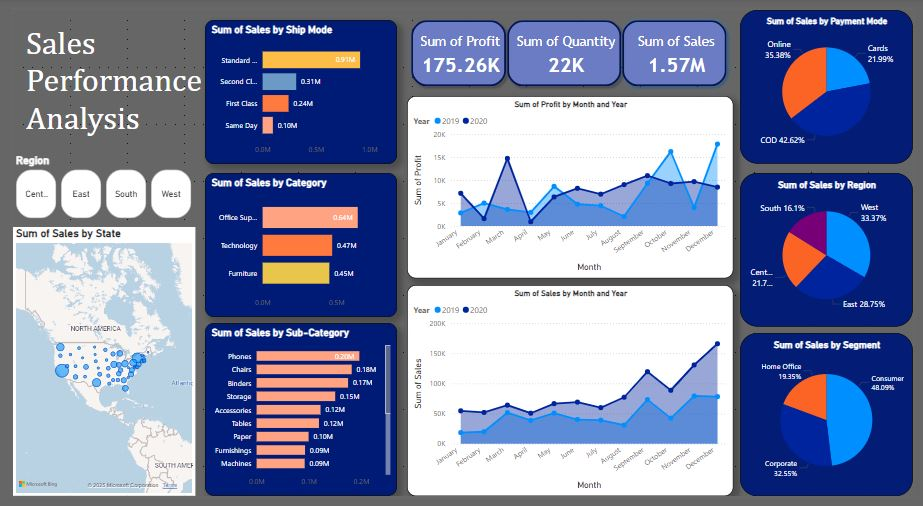

The page's visual inventory and layout, read from the dashboard file:
{"tool":"powerbi","page":{"name":"Page 1","canvas":[1500,810],"ordinal":0},"visuals":[{"type":"textbox","box":[16,16,304,256],"z":0},{"type":"pieChart","fields":{"Category":["Sheet1.Region"],"Y":["Sum(Sheet1.Sales)"]},"box":[1212,272,288,256],"z":1000},{"type":"pieChart","fields":{"Category":["Sheet1.Segment"],"Y":["Sum(Sheet1.Sales)"]},"box":[1212,538,288,272],"z":2000},{"type":"pieChart","fields":{"Y":["Sum(Sheet1.Sales)"],"Series":["Sheet1.Payment Mode"]},"box":[1212,-0.6,288,256],"z":3000},{"type":"cardVisual","fields":{"Data":["Sum(Sheet1.Sales)"]},"box":[998.2,-0.6,208,144],"z":4000},{"type":"cardVisual","fields":{"Data":["Sum(Sheet1.Quantity)"]},"box":[806.2,-0.6,224,144],"z":5000},{"type":"cardVisual","fields":{"Data":["Sum(Sheet1.Profit)"]},"box":[646.2,-0.6,192,144],"z":6000},{"type":"areaChart","fields":{"Category":["Sheet1.Order Date.Variation.Date Hierarchy.Month"],"Y":["Sum(Sheet1.Profit)"],"Series":["Sheet1.Year"]},"box":[656,144,544,304],"z":7000},{"type":"areaChart","fields":{"Category":["Sheet1.Order Date.Variation.Date Hierarchy.Month"],"Y":["Sum(Sheet1.Sales)"],"Series":["Sheet1.Year"]},"box":[656,458,544,352],"z":8000},{"type":"clusteredBarChart","fields":{"Y":["Sum(Sheet1.Sales)"],"Category":["Sheet1.Ship Mode"]},"box":[320,16,320,240],"z":9000},{"type":"clusteredBarChart","fields":{"Y":["Sum(Sheet1.Sales)"],"Category":["Sheet1.Sub-Category"]},"box":[320,522,320,288],"z":10000},{"type":"clusteredBarChart","fields":{"Y":["Sum(Sheet1.Sales)"],"Category":["Sheet1.Category"]},"box":[320,272,320,240],"z":11000},{"type":"map","fields":{"Category":["Sheet1.State"],"Size":["Sum(Sheet1.Sales)"]},"box":[0,362,304,448],"z":12000},{"type":"advancedSlicerVisual","fields":{"Values":["Sheet1.Region"]},"box":[0,240,304,112],"z":13000}]}

Visuals, with their boxes in screenshot pixels (x1, y1, x2, y2), scaled from the page's 1500x810 canvas onto the 923x506 screenshot:
textbox: 10,10,197,170
pieChart - Sheet1.Region x Sum(Sheet1.Sales): 746,170,922,330
pieChart - Sheet1.Segment x Sum(Sheet1.Sales): 746,336,922,505
pieChart - Sum(Sheet1.Sales) x Sheet1.Payment Mode: 746,0,922,160
cardVisual - Sum(Sheet1.Sales): 614,0,742,90
cardVisual - Sum(Sheet1.Quantity): 496,0,634,90
cardVisual - Sum(Sheet1.Profit): 398,0,516,90
areaChart - Sheet1.Order Date.Variation.Date Hierarchy.Month x Sum(Sheet1.Profit): 404,90,738,280
areaChart - Sheet1.Order Date.Variation.Date Hierarchy.Month x Sum(Sheet1.Sales): 404,286,738,505
clusteredBarChart - Sum(Sheet1.Sales) x Sheet1.Ship Mode: 197,10,394,160
clusteredBarChart - Sum(Sheet1.Sales) x Sheet1.Sub-Category: 197,326,394,505
clusteredBarChart - Sum(Sheet1.Sales) x Sheet1.Category: 197,170,394,320
map - Sheet1.State x Sum(Sheet1.Sales): 0,226,187,505
advancedSlicerVisual - Sheet1.Region: 0,150,187,220
